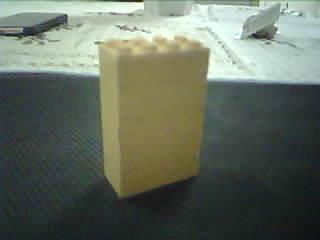lego: (97, 33, 210, 199)
